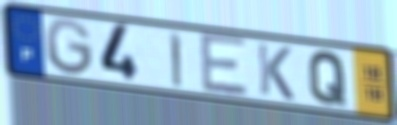4: (98, 21, 146, 86)
E: (197, 30, 251, 98)
G: (43, 16, 96, 79)
I: (168, 30, 184, 90)
K: (254, 40, 297, 103)
Q: (307, 49, 349, 108)
